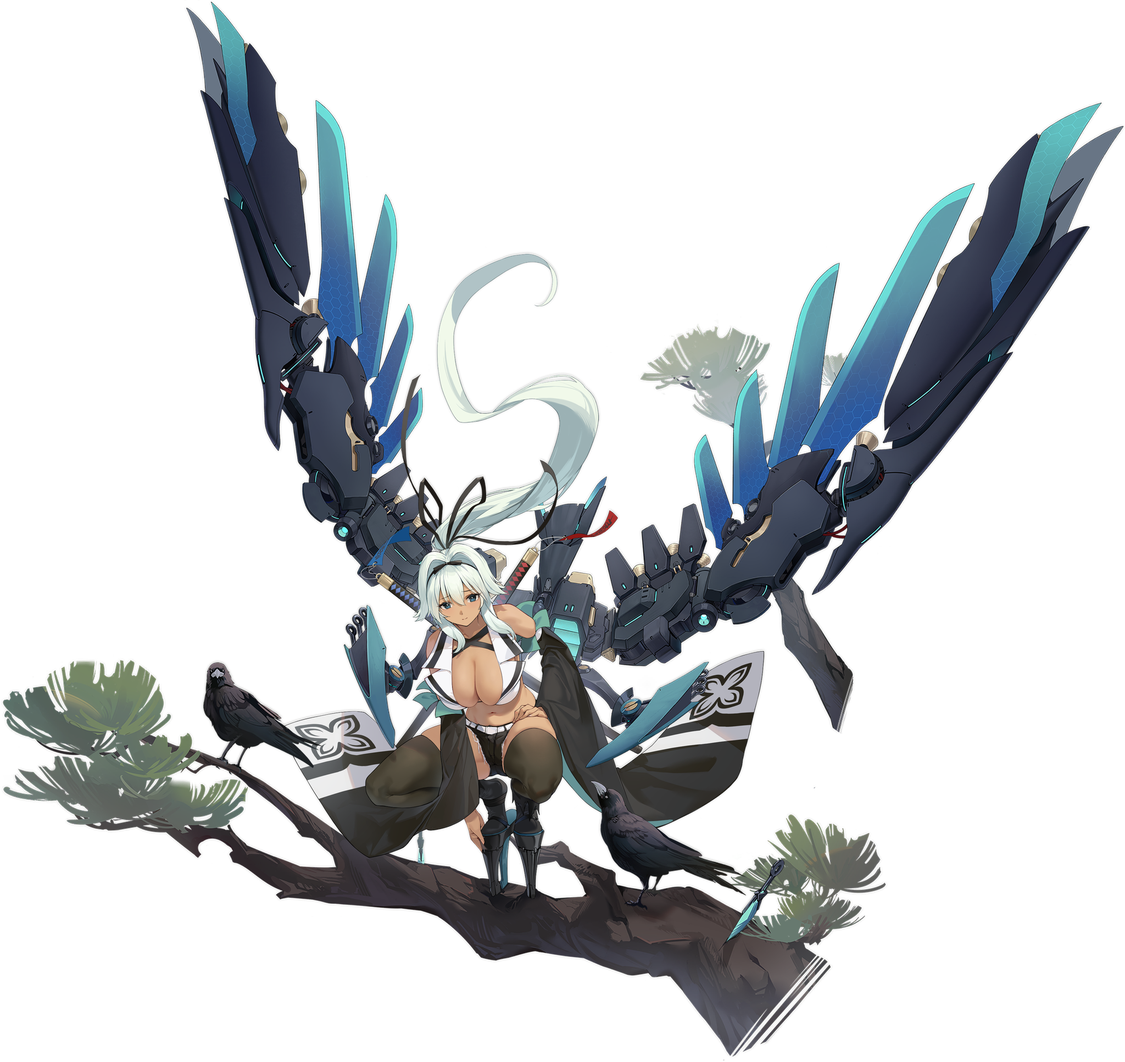person: (341, 487, 760, 935)
